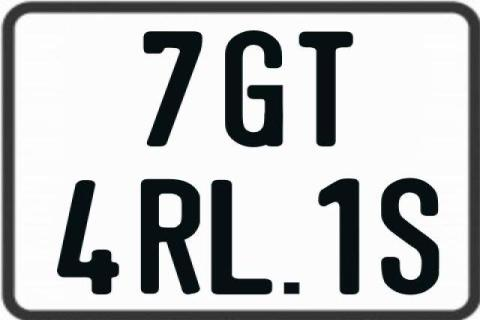0: (54, 178, 117, 294), (140, 31, 201, 147), (315, 178, 356, 296)
G: (222, 29, 280, 145)
L: (211, 177, 276, 297)
R: (141, 177, 203, 295)
S: (381, 176, 443, 292)
T: (297, 30, 351, 148)
